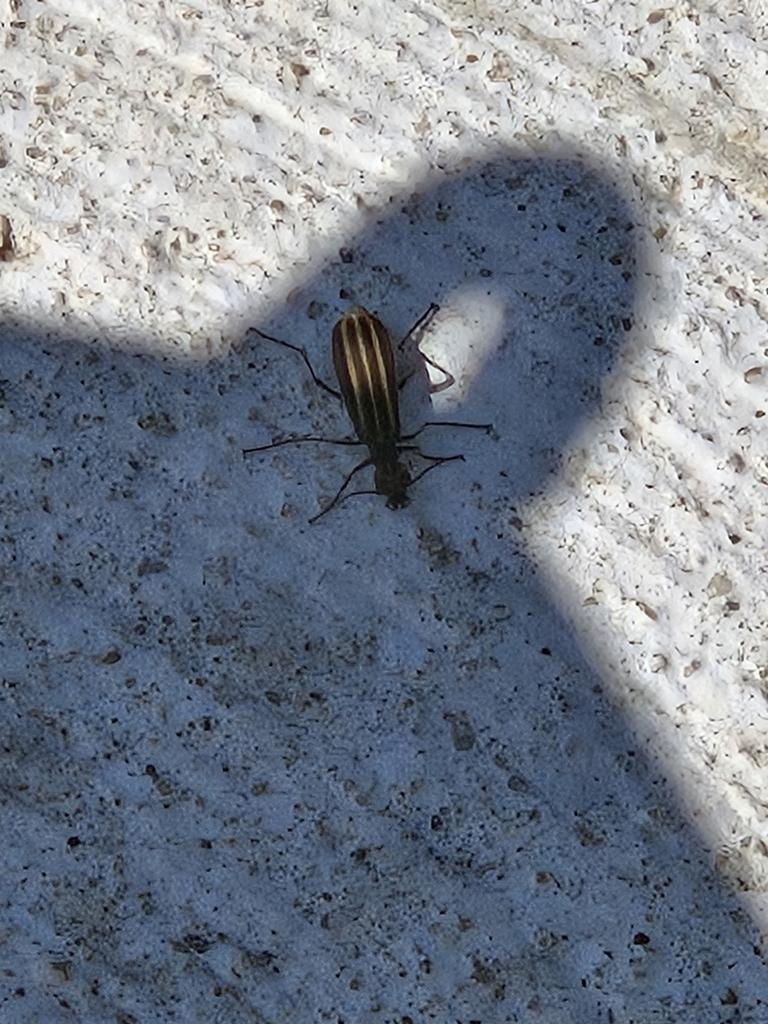blister_beetle: (195, 216, 539, 580)
